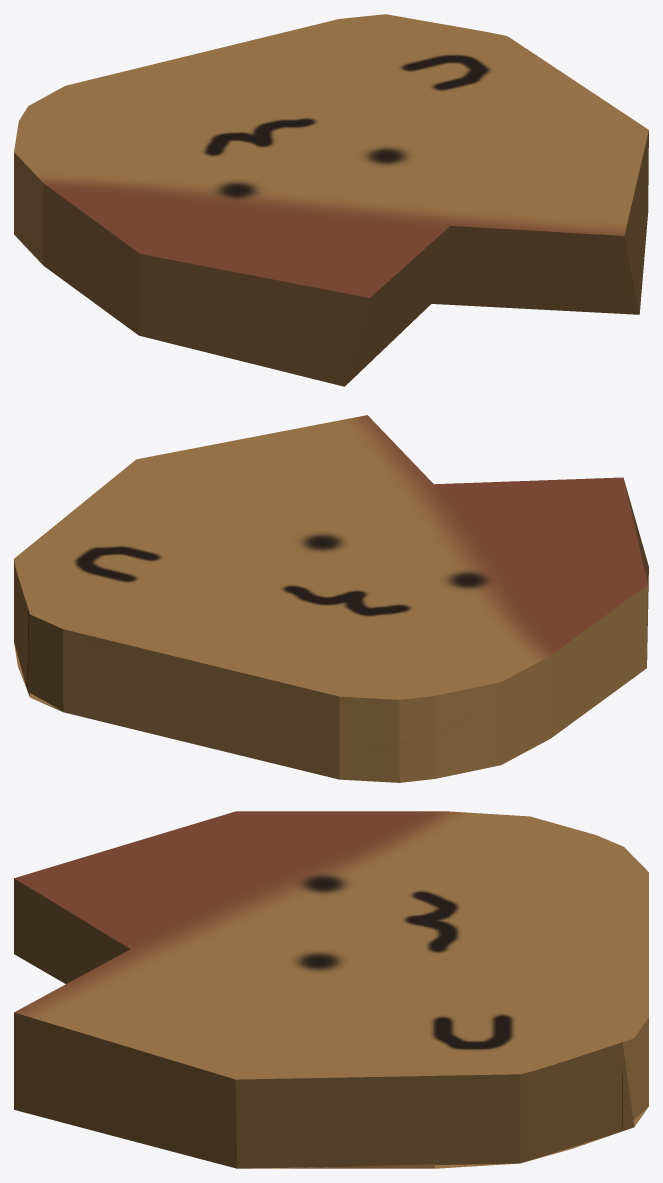
The model's file is hasioki.glb.
The picture shows the model from 3 angles, top to bottom: view 1: azimuth 30°, elevation 25°; view 2: azimuth 150°, elevation 25°; view 3: azimuth 270°, elevation 25°; orthographic projection. The views are drawn at different scales.
Parts seen in each view (by area): view 1: 立方体; view 2: 立方体; view 3: 立方体.
Part boxes in pixels (x1,y1,x2,y2): 立方体: (14, 14, 648, 386); 立方体: (14, 415, 648, 782); 立方体: (14, 811, 648, 1168).
Bounding box in the file's own units: 2 × 0.3101 × 2.
1 material, 1 textured.
